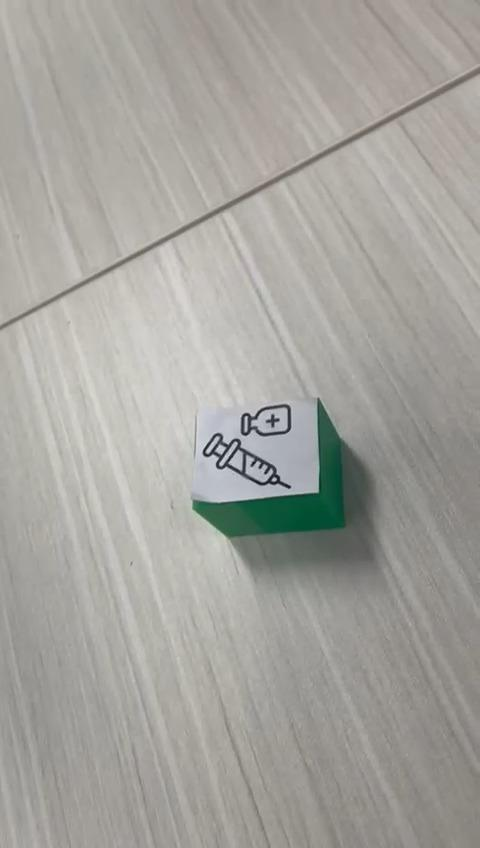antiseptic cream: (188, 395, 346, 538)
